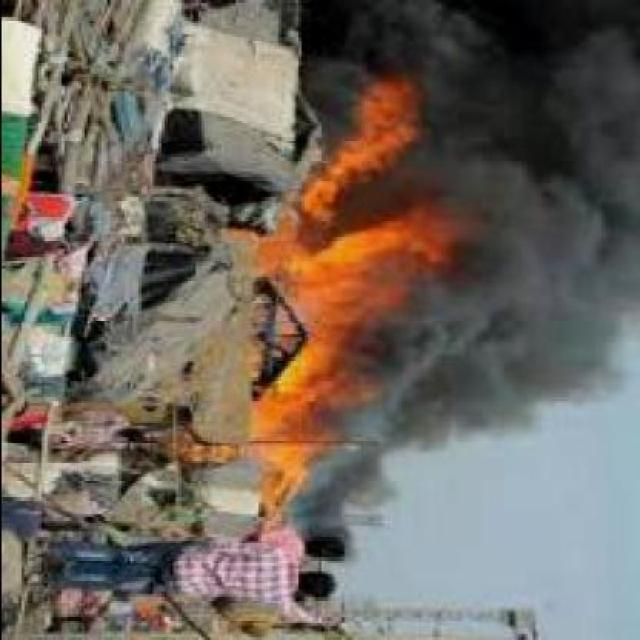Fire: (213, 67, 458, 521)
Smoke: (460, 0, 640, 440)
